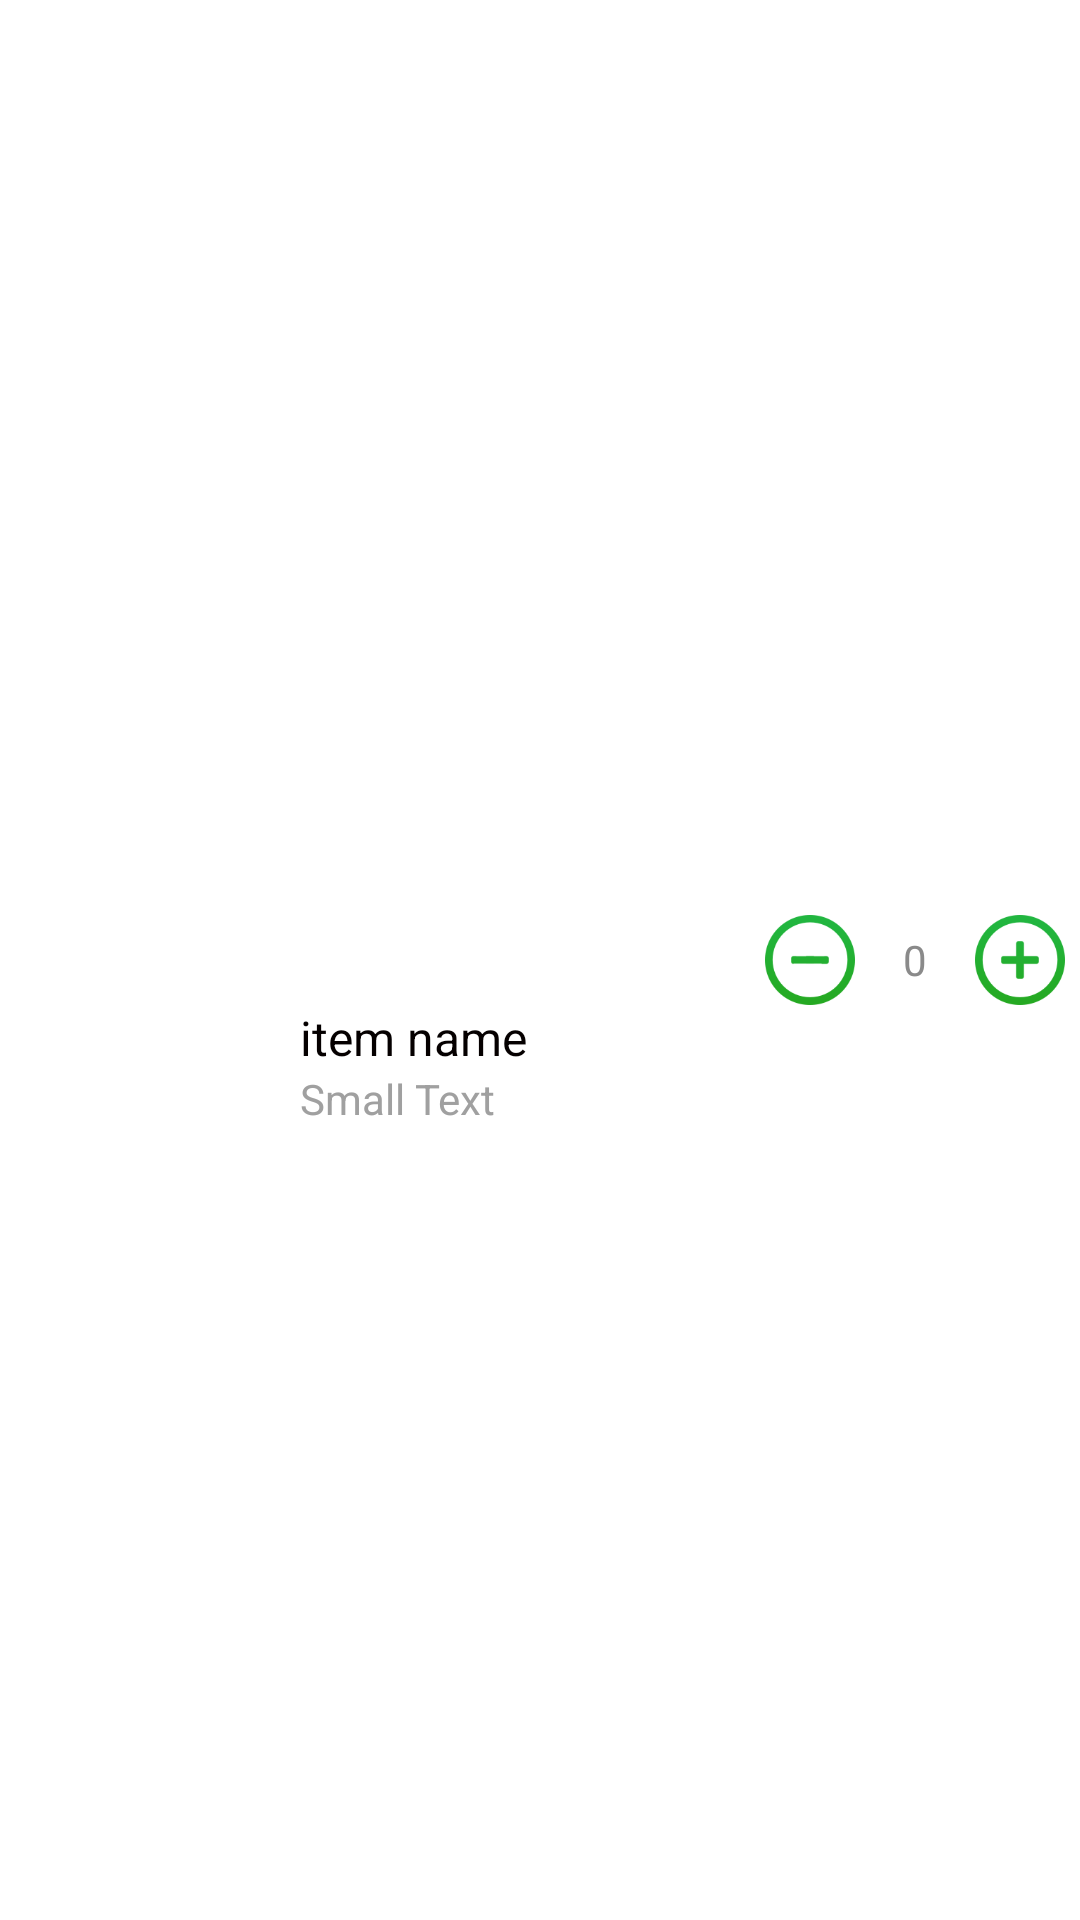

Point at icon controls on the screen. Image size 1080*1920, points as (x=x, y=y).
minus: (x=810, y=960)
plus: (x=1020, y=960)
